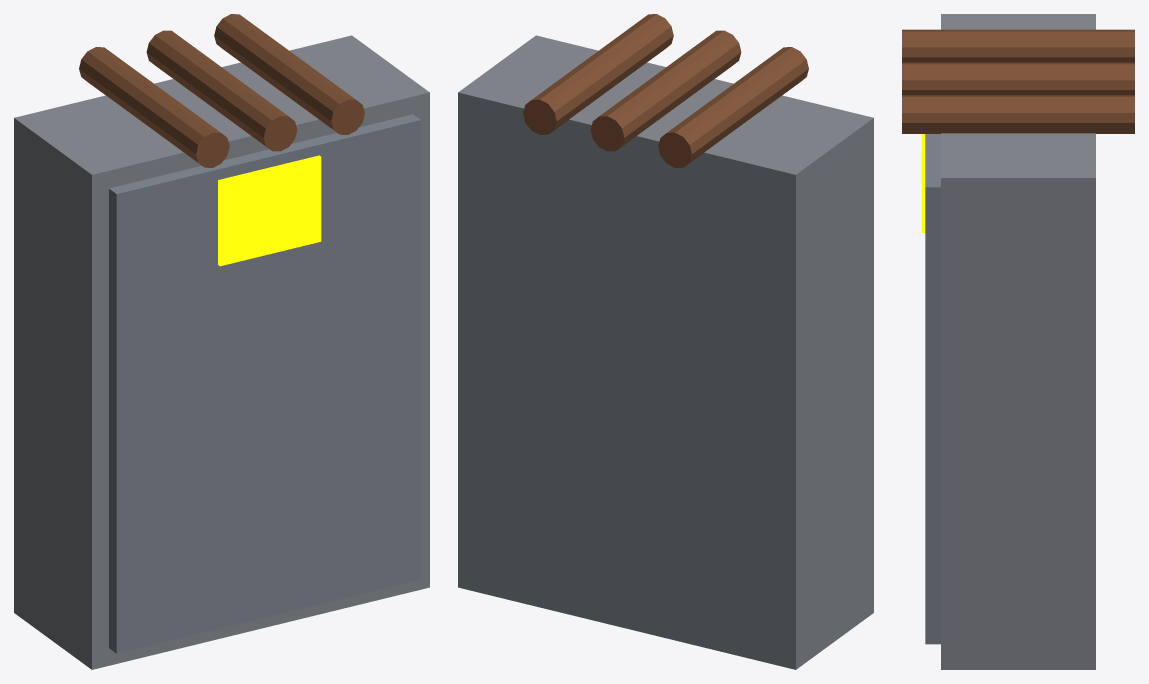
File: DETAIL_Junction_Box.glb
The picture shows the model from 3 angles, left to right: view 1: azimuth 30°, elevation 25°; view 2: azimuth 150°, elevation 25°; view 3: azimuth 270°, elevation 25°; orthographic projection.
Visible parts, largest first — view 1: DETAIL_Junction_Box; view 2: DETAIL_Junction_Box; view 3: DETAIL_Junction_Box.
Boxes of the visible parts, left/top/right/bottom form: DETAIL_Junction_Box: left=14, top=14, right=429, bottom=669; DETAIL_Junction_Box: left=458, top=14, right=873, bottom=669; DETAIL_Junction_Box: left=902, top=14, right=1134, bottom=669.
Size of the model in its own units: 0.5 by 0.745 by 0.3.
